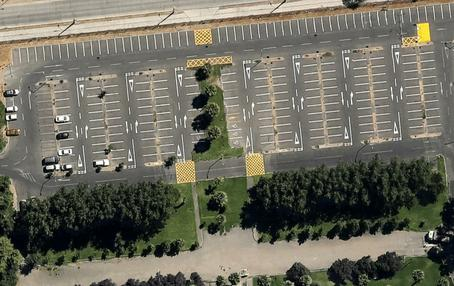parkingspot: (210, 3, 452, 44), (11, 30, 196, 65), (34, 83, 60, 174), (84, 78, 110, 169), (102, 76, 128, 167), (251, 62, 277, 152), (418, 44, 444, 134), (53, 81, 78, 172), (301, 56, 326, 147), (319, 54, 344, 145), (351, 51, 376, 142), (270, 60, 295, 150), (400, 46, 425, 136), (134, 74, 158, 164), (152, 72, 176, 162), (369, 49, 393, 139), (220, 64, 244, 148), (183, 66, 207, 144)
